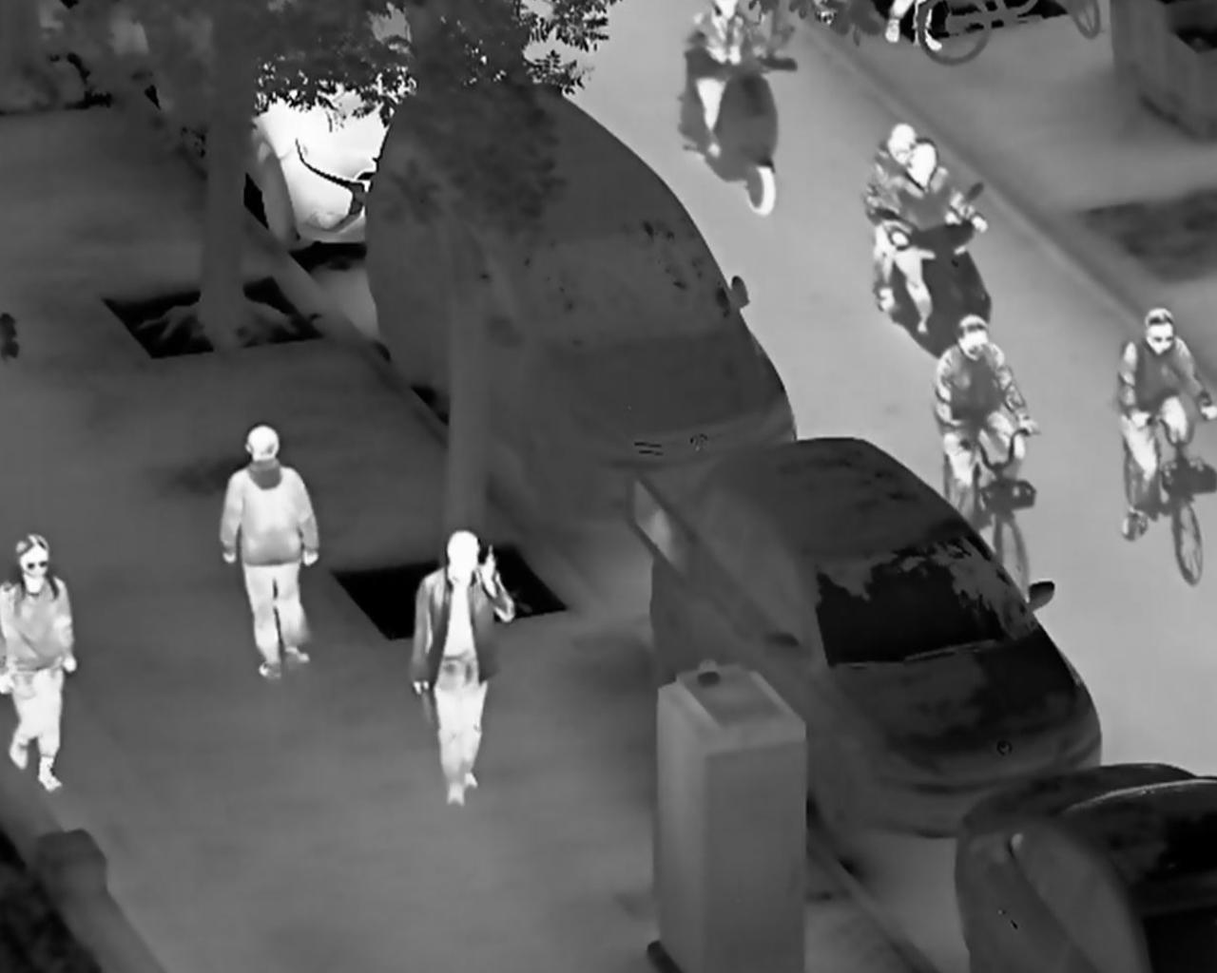person: (404, 527, 518, 808), (218, 424, 320, 682), (1113, 305, 1217, 543), (881, 133, 995, 337), (931, 315, 1040, 525), (2, 532, 80, 796), (863, 118, 919, 314)
